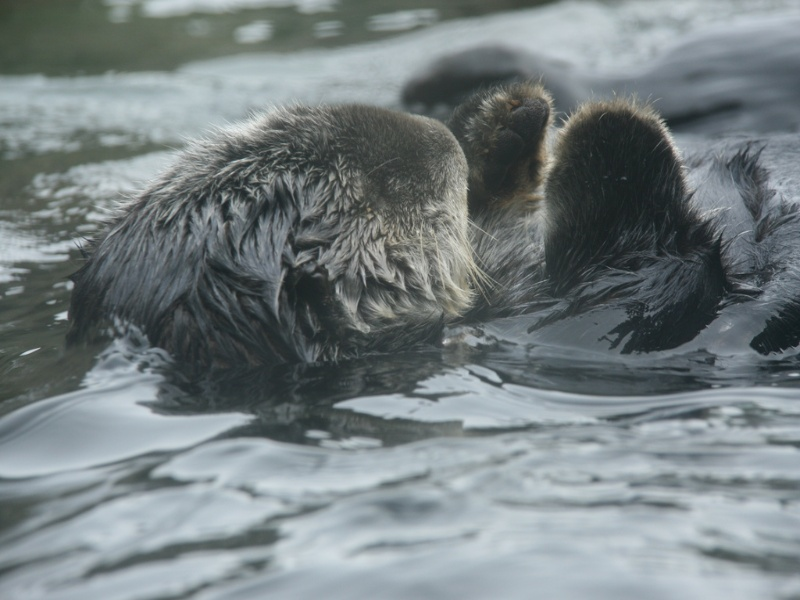minkish: (54, 78, 790, 386)
